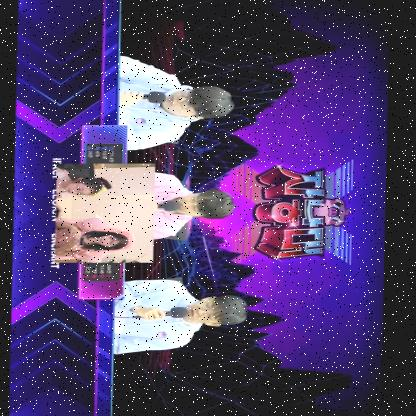streamer: (54, 219, 129, 260), (57, 168, 113, 196)
